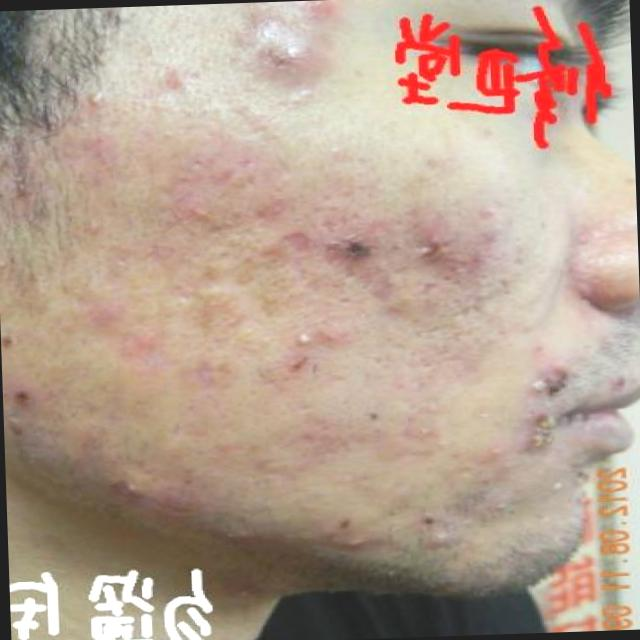blackhead: (339, 520, 350, 528), (184, 477, 194, 485), (424, 517, 434, 524), (2, 338, 12, 344), (370, 412, 378, 419), (19, 393, 26, 399)
nodule: (260, 42, 320, 77)
